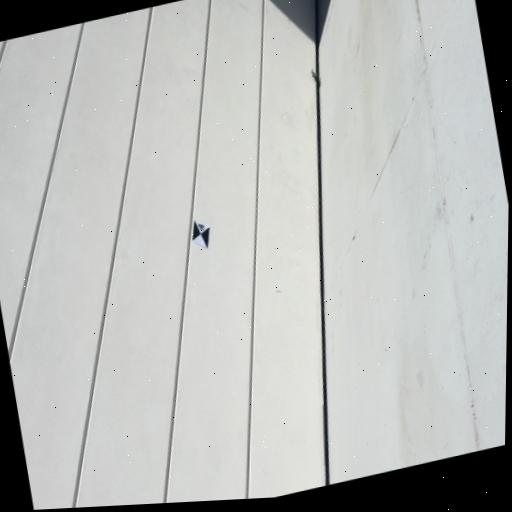target4: (192, 219, 209, 248)
